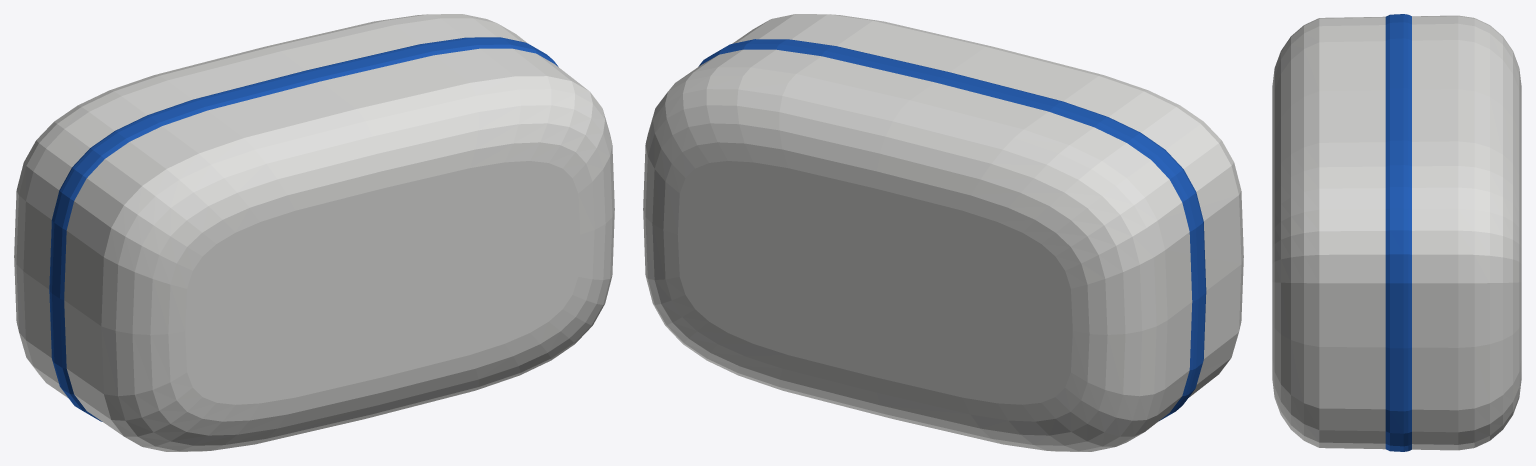
Rendered from algodao_pacote.obj.
3 renders of one model, left to right at view 1: azimuth 30°, elevation 25°; view 2: azimuth 150°, elevation 25°; view 3: azimuth 270°, elevation 25°, orthographic. The views are drawn at different scales.
Visible parts, largest first — view 1: algodao_pacote_pacote, algodao_pacote_faixa; view 2: algodao_pacote_pacote, algodao_pacote_faixa; view 3: algodao_pacote_pacote, algodao_pacote_faixa.
Part boxes in pixels (x1,y1,x2,y2): algodao_pacote_pacote: [14, 14, 614, 451]; algodao_pacote_faixa: [49, 37, 558, 421]; algodao_pacote_pacote: [643, 14, 1243, 451]; algodao_pacote_faixa: [698, 39, 1206, 420]; algodao_pacote_pacote: [1272, 15, 1521, 450]; algodao_pacote_faixa: [1385, 14, 1411, 451].
Bounding box in the file's own units: 121 × 70.6 × 55.
